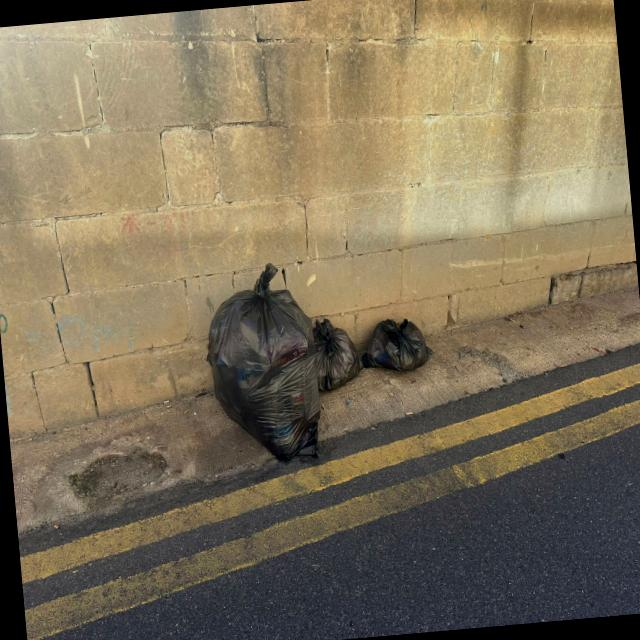black_bag: (194, 258, 326, 472), (306, 307, 364, 393), (357, 312, 434, 376)
